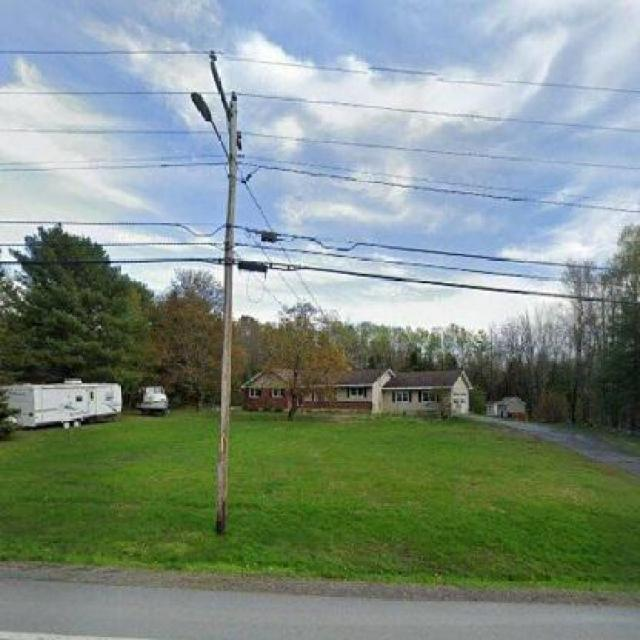pole: (205, 47, 286, 536)
